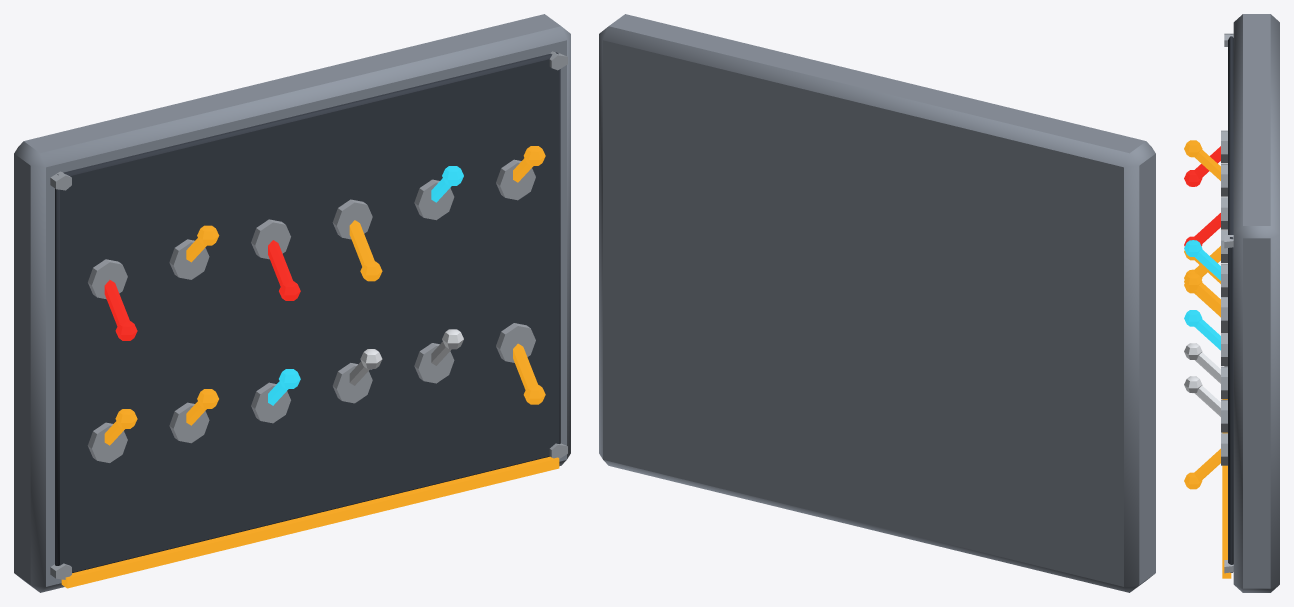
The model's file is controlpanel_switch_bank.glb.
The picture shows the model from 3 angles, left to right: view 1: azimuth 30°, elevation 25°; view 2: azimuth 150°, elevation 25°; view 3: azimuth 270°, elevation 25°; orthographic projection. The views are drawn at different scales.
Visible parts, largest first — view 1: controlpanel_switch_bank; view 2: controlpanel_switch_bank; view 3: controlpanel_switch_bank.
Part boxes in pixels (left/top/right/bottom): controlpanel_switch_bank: left=14, top=14, right=570, bottom=592; controlpanel_switch_bank: left=599, top=14, right=1155, bottom=592; controlpanel_switch_bank: left=1184, top=14, right=1279, bottom=592.
Size of the model in its own units: 0.45 by 0.35 by 0.083.
